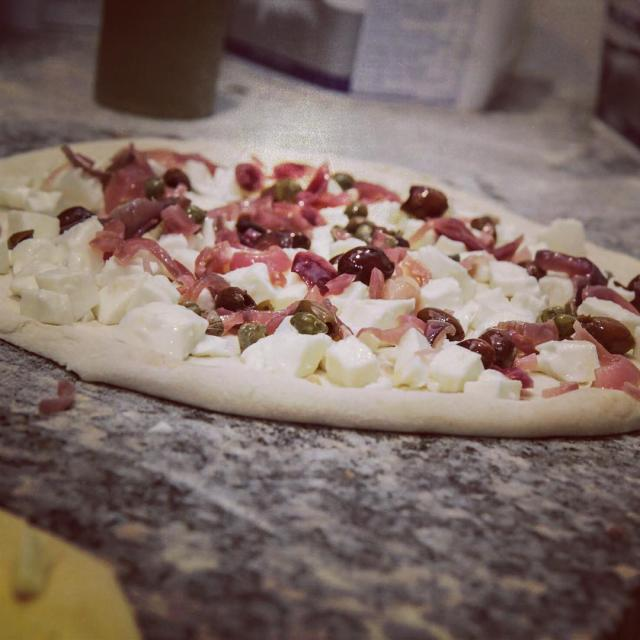black_olives: (535, 250, 607, 286), (236, 217, 310, 250), (338, 245, 395, 284), (579, 315, 635, 354), (401, 185, 449, 219), (418, 308, 465, 341), (480, 329, 516, 369), (457, 339, 495, 368), (215, 286, 256, 311), (58, 206, 94, 233), (162, 167, 192, 190), (626, 275, 640, 312), (145, 176, 165, 199)
pizza: (0, 142, 640, 437)
